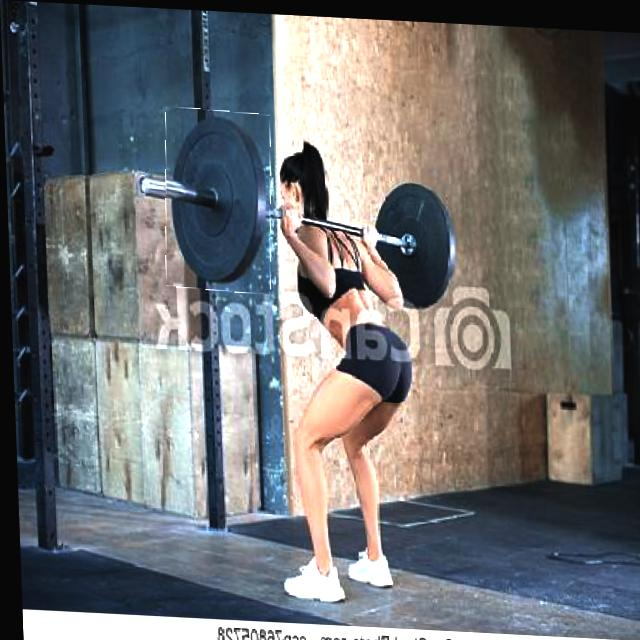barbell: (161, 107, 274, 293)
